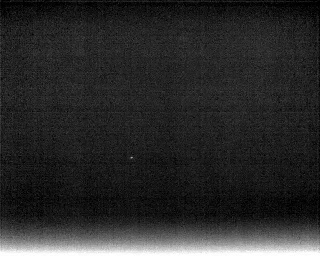AIRPLANE: (127, 153, 135, 162)
